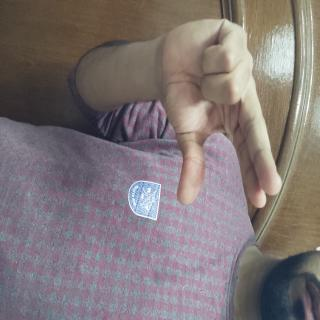DHELL: (10, 47, 164, 232)
